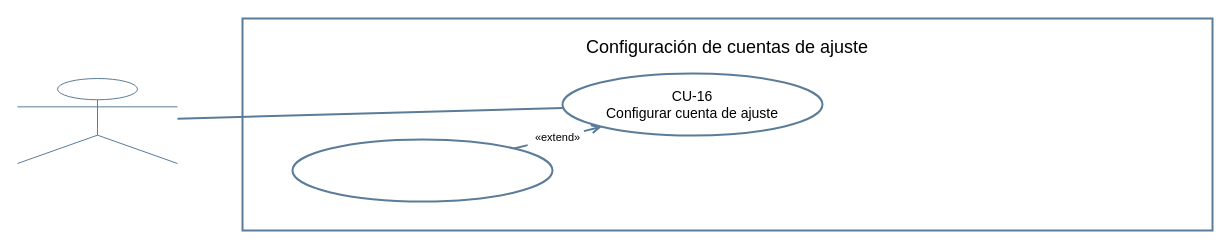
Image size: 1231x248. Some labels were removed from this diagram. The shapes that lost their labels are listed below. From the top down, each one's centre as x and y in pixels, then its label:
the point at 97,121: Administrador ACT-03
the point at 422,170: CU-17 Desactivar cuenta de ajuste
